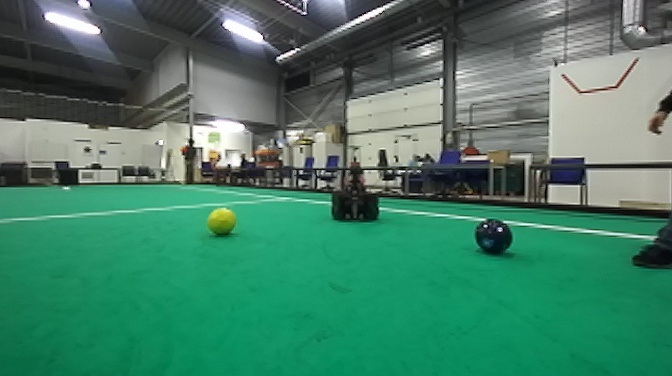ball: (473, 215, 516, 258), (204, 205, 239, 236)
robot: (328, 143, 382, 225)
